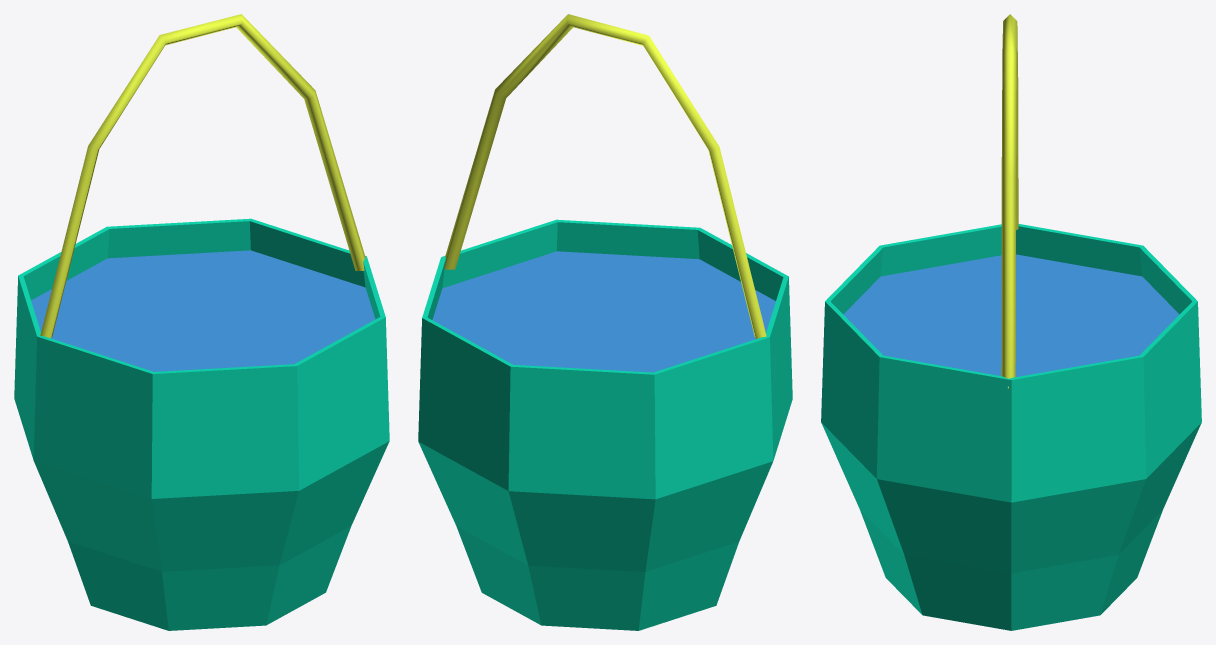
The model's file is Bucket unfilled.fbx.
The picture shows the model from 3 angles, left to right: view 1: azimuth 30°, elevation 25°; view 2: azimuth 150°, elevation 25°; view 3: azimuth 270°, elevation 25°; orthographic projection. The views are drawn at different scales.
Parts seen in each view (by area): view 1: Bucket, Water, Gagang; view 2: Bucket, Water, Gagang; view 3: Bucket, Water, Gagang.
Part boxes in pixels (x1,y1,x2,y2): Bucket: (14, 218, 389, 630); Water: (31, 250, 375, 371); Gagang: (40, 14, 365, 338); Bucket: (418, 219, 792, 630); Water: (432, 251, 775, 372); Gagang: (444, 14, 766, 338); Bucket: (821, 224, 1201, 630); Water: (843, 254, 1179, 376); Gagang: (1001, 14, 1018, 388).
Size of the model in its own units: 53.16 by 83.87 by 53.16.
